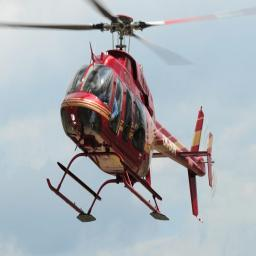helicopter: (14, 2, 229, 226)
